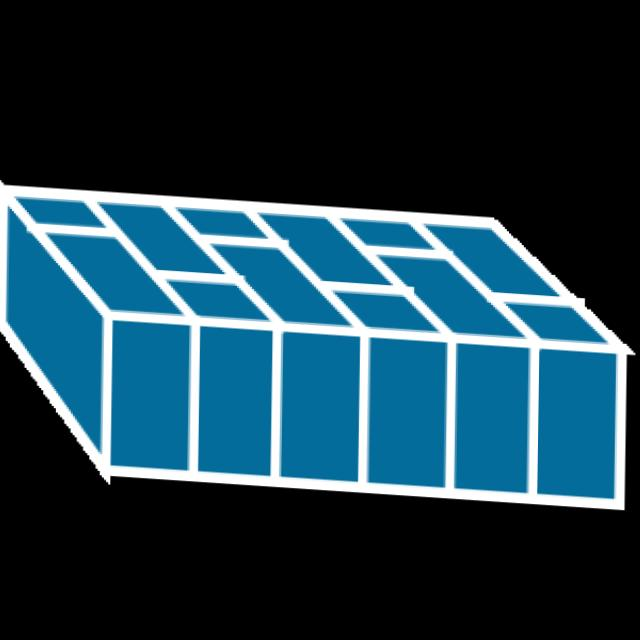Firewall: (0, 72, 639, 588)
